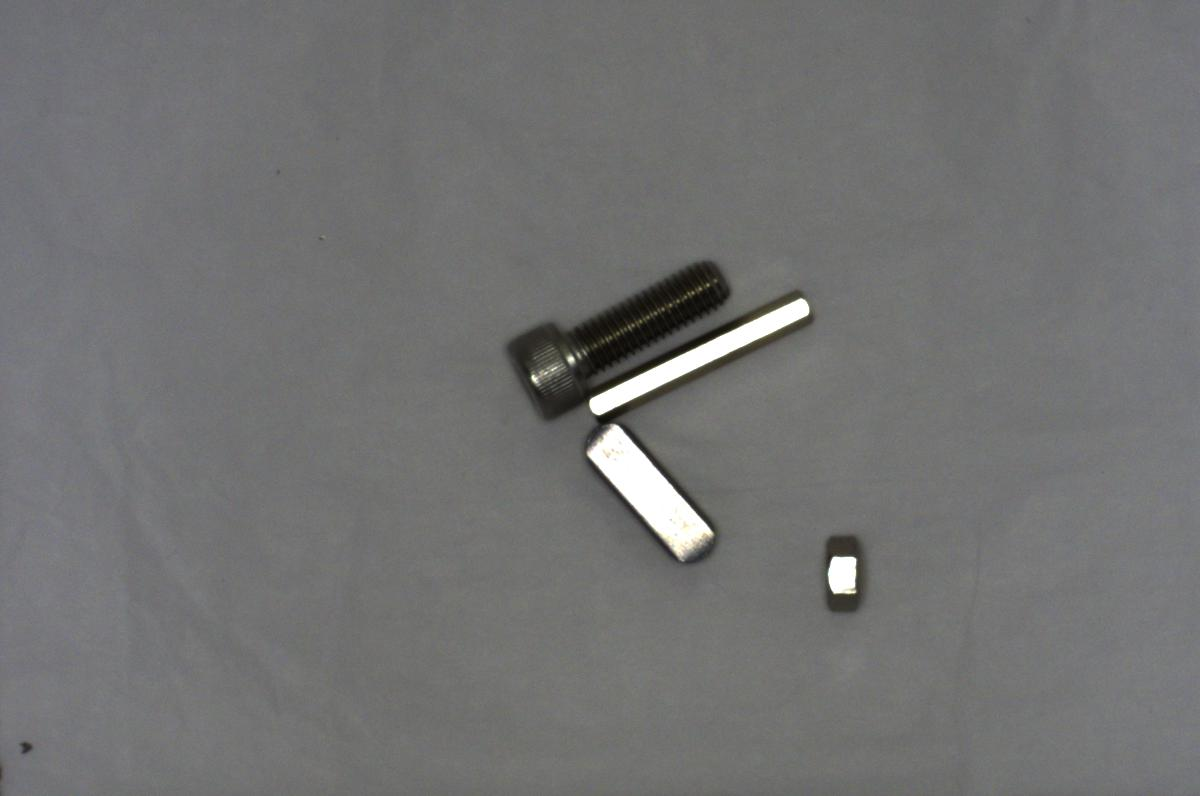Double hexagonal column: (585, 287, 826, 420)
Hexagon nut: (818, 525, 871, 627)
Hexagon screw: (491, 252, 735, 422)
Keybar: (567, 413, 735, 574)
